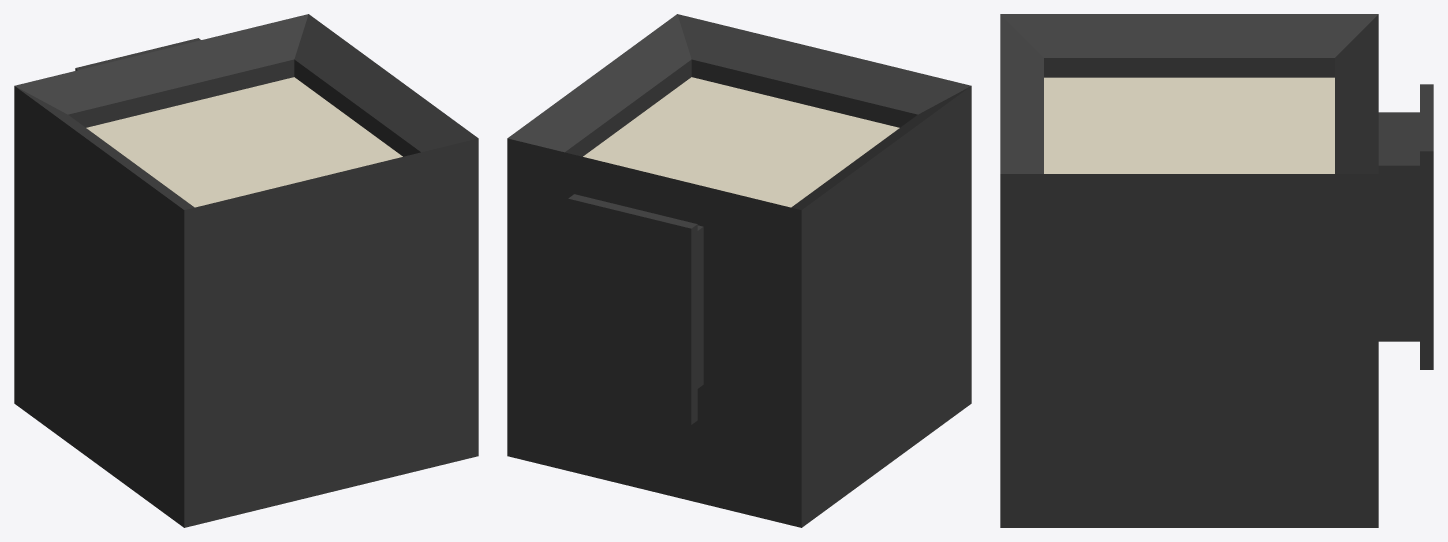
The model's file is spot light.fbx.
3 renders of one model, left to right at view 1: azimuth 30°, elevation 25°; view 2: azimuth 150°, elevation 25°; view 3: azimuth 270°, elevation 25°, orthographic. The views are drawn at different scales.
Visible parts, largest first — view 1: Cube; view 2: Cube; view 3: Cube.
Boxes of the visible parts, left/top/right/bottom form: Cube: left=14, top=14, right=478, bottom=527; Cube: left=507, top=14, right=971, bottom=527; Cube: left=1000, top=14, right=1433, bottom=527.
Bounding box in the file's own units: 260 × 268 × 298.
